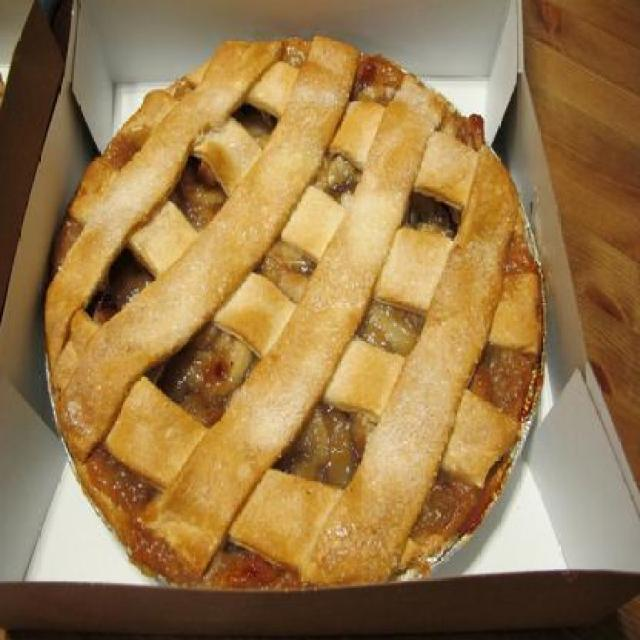Apple: (31, 36, 544, 576)
